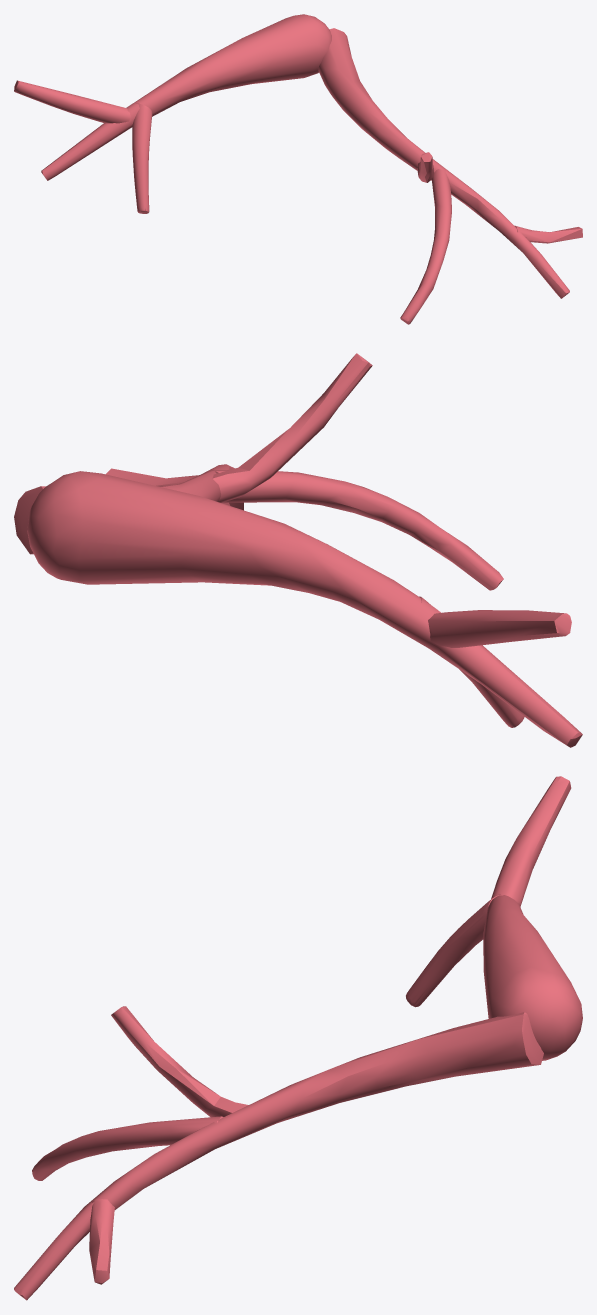
Rendered from fma8620_cx257.glb.
The picture shows the model from 3 angles, top to bottom: view 1: azimuth 30°, elevation 25°; view 2: azimuth 150°, elevation 25°; view 3: azimuth 270°, elevation 25°; orthographic projection. The views are drawn at different scales.
Visible parts, largest first — view 1: FMA8620_CX257; view 2: FMA8620_CX257; view 3: FMA8620_CX257.
Part boxes in pixels (bbox=[...]): FMA8620_CX257: bbox=[14, 14, 582, 324]; FMA8620_CX257: bbox=[14, 353, 582, 747]; FMA8620_CX257: bbox=[14, 776, 582, 1300].
Bounding box in the file's own units: 0.0722 × 0.0296 × 0.0579.
